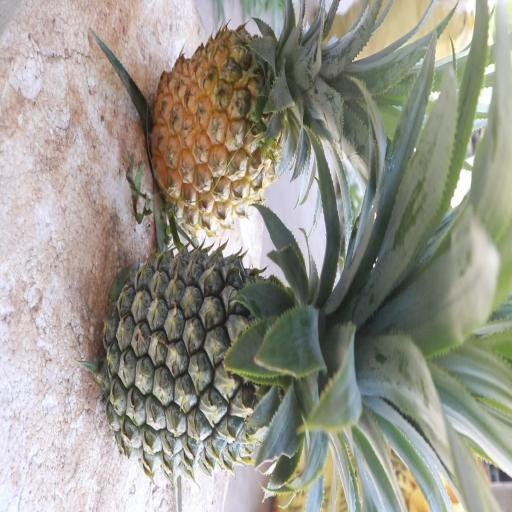Pineapple - v8 v1: (153, 15, 393, 222)
